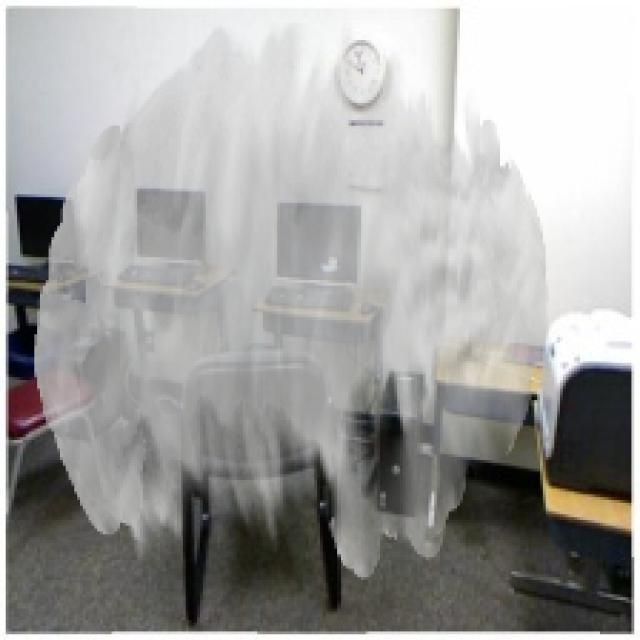Smoke: (34, 23, 549, 580)
